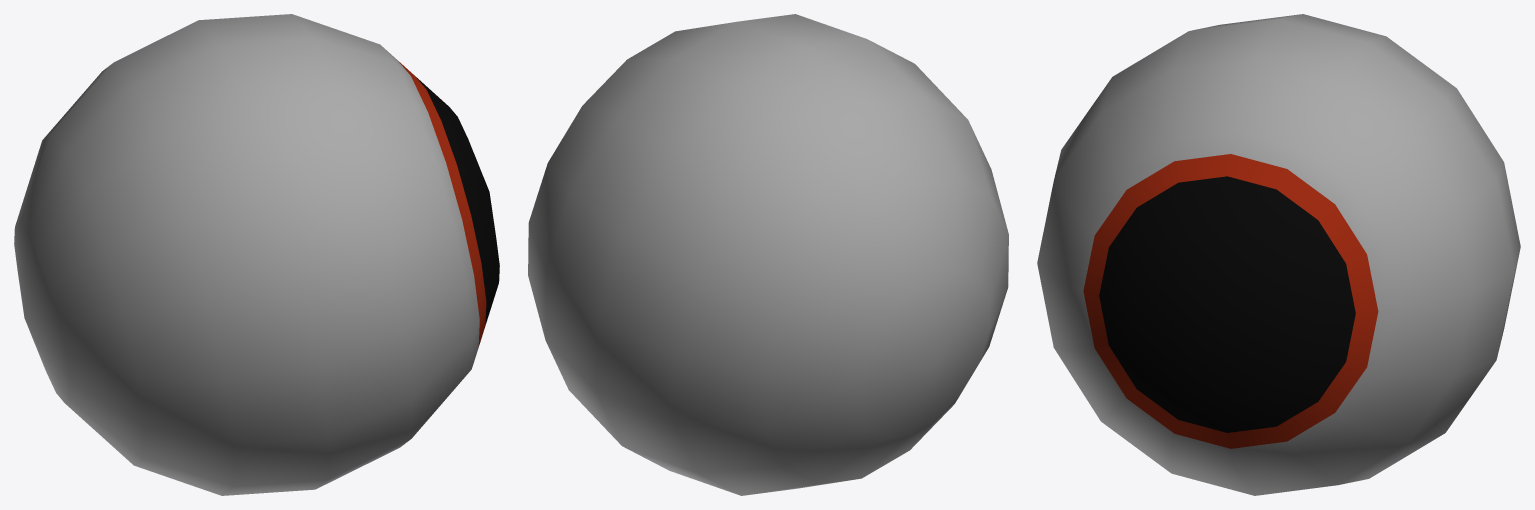
File: betta_fish_eye.obj
3 views of the same model, side by side, from view 1: azimuth 30°, elevation 25°; view 2: azimuth 150°, elevation 25°; view 3: azimuth 270°, elevation 25° (orthographic).
Visible parts, largest first — view 1: eye; view 2: eye; view 3: eye.
Boxes of the visible parts, bbox=[...] form: eye: bbox=[14, 14, 499, 495]; eye: bbox=[528, 14, 1008, 495]; eye: bbox=[1037, 14, 1520, 495].
Bounding box in the file's own units: 0.00551 × 0.00546 × 0.00549.
